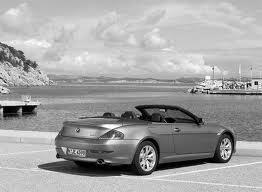car: (57, 107, 242, 173)
